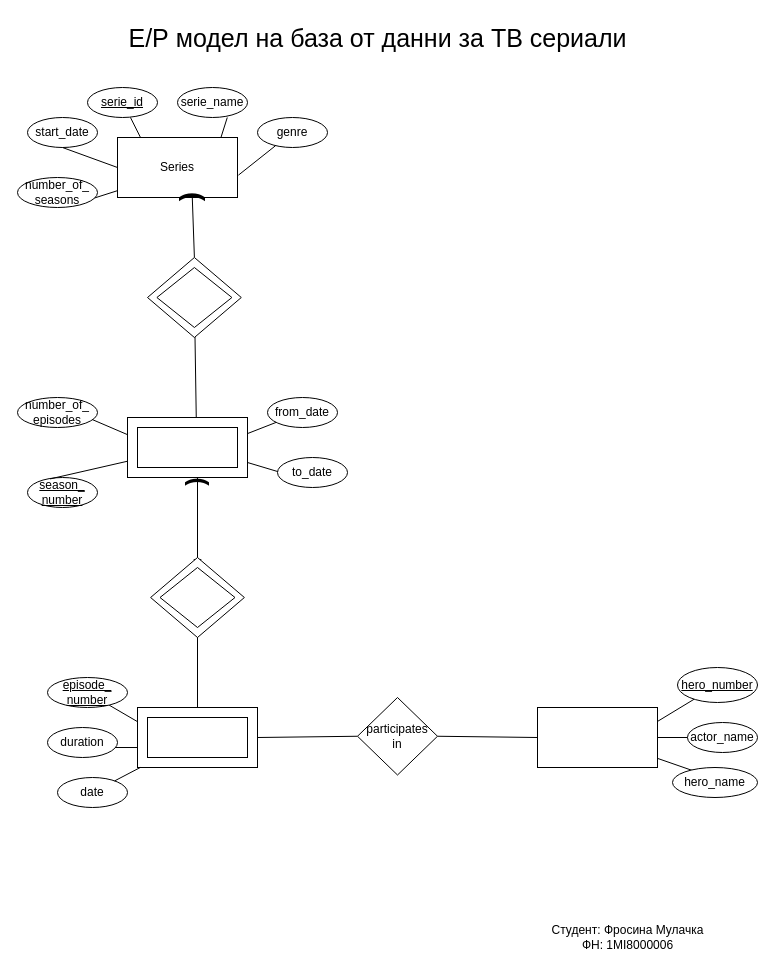
Some shapes in this 775 by 974 pixel diagram are drawn without their labels. The centre of each missing label's shape, as x and y in pixels:
"Episodes" belongs at point (197, 737).
"has episodes" belongs at point (197, 597).
"has seasons" belongs at point (194, 297).
"Heroes" belongs at point (597, 737).
"Seasons" belongs at point (187, 447).
